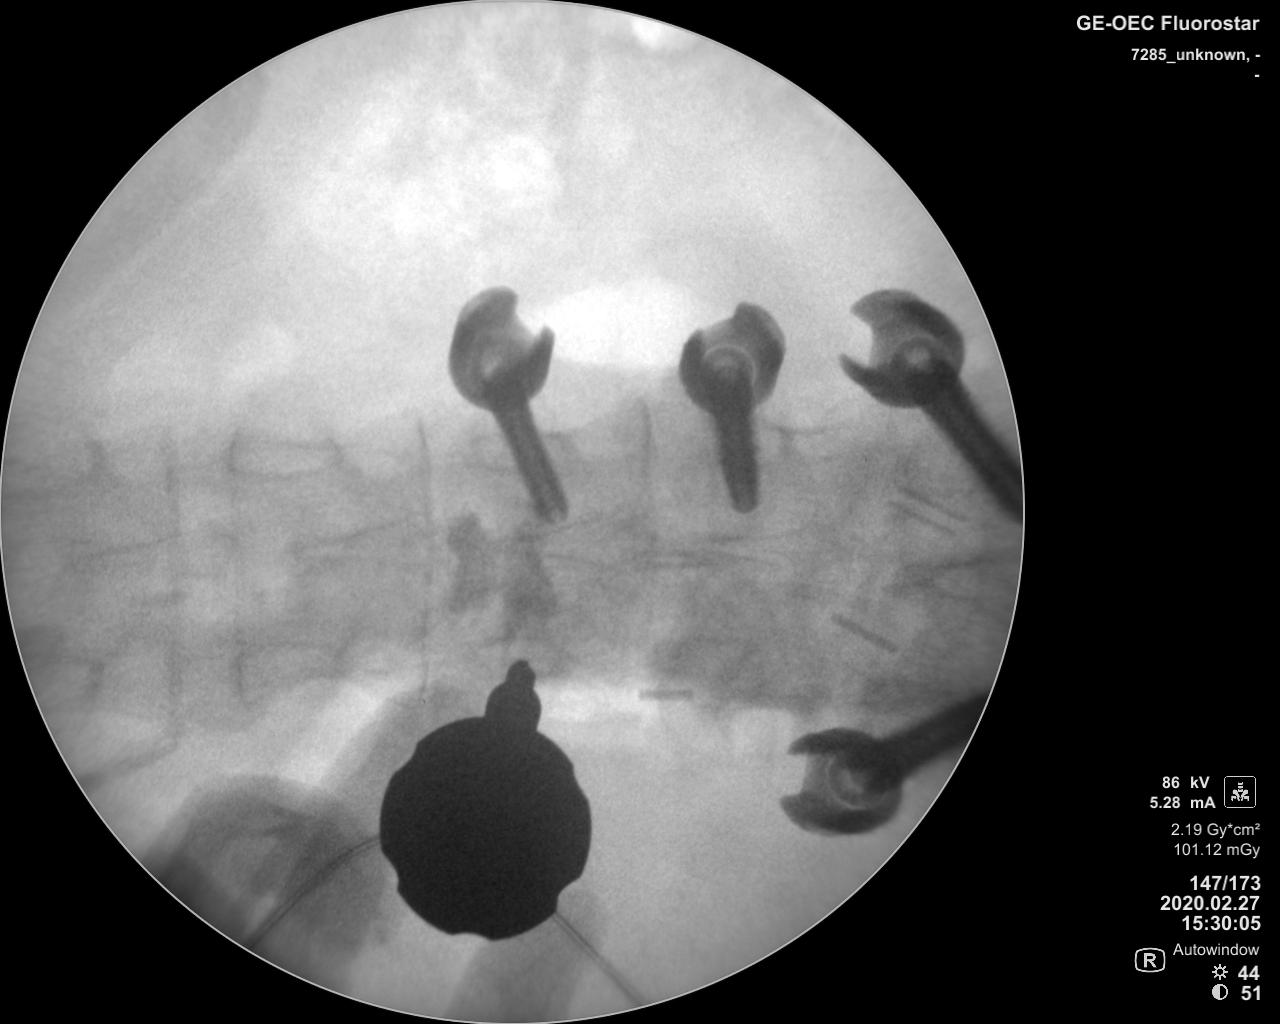eyes: (235, 645, 340, 701), (7, 430, 99, 494), (227, 430, 339, 478), (32, 653, 104, 708)
line: (156, 420, 185, 739), (222, 430, 248, 714), (411, 411, 435, 695)
nose: (284, 511, 443, 574), (478, 515, 657, 571), (65, 526, 239, 579)
